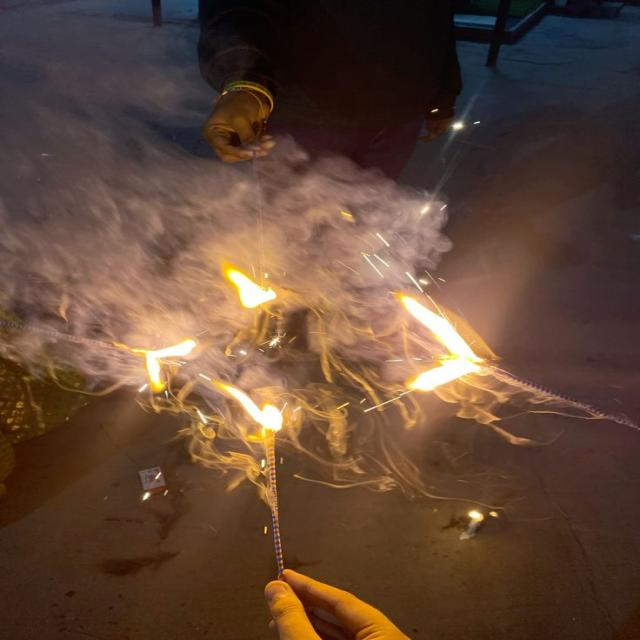fire: (399, 295, 484, 393), (210, 381, 282, 431), (133, 339, 197, 394), (219, 261, 275, 308)
